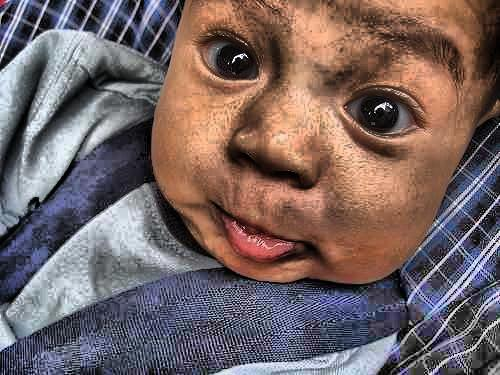seatbelt: (53, 262, 408, 358), (1, 118, 163, 270)
